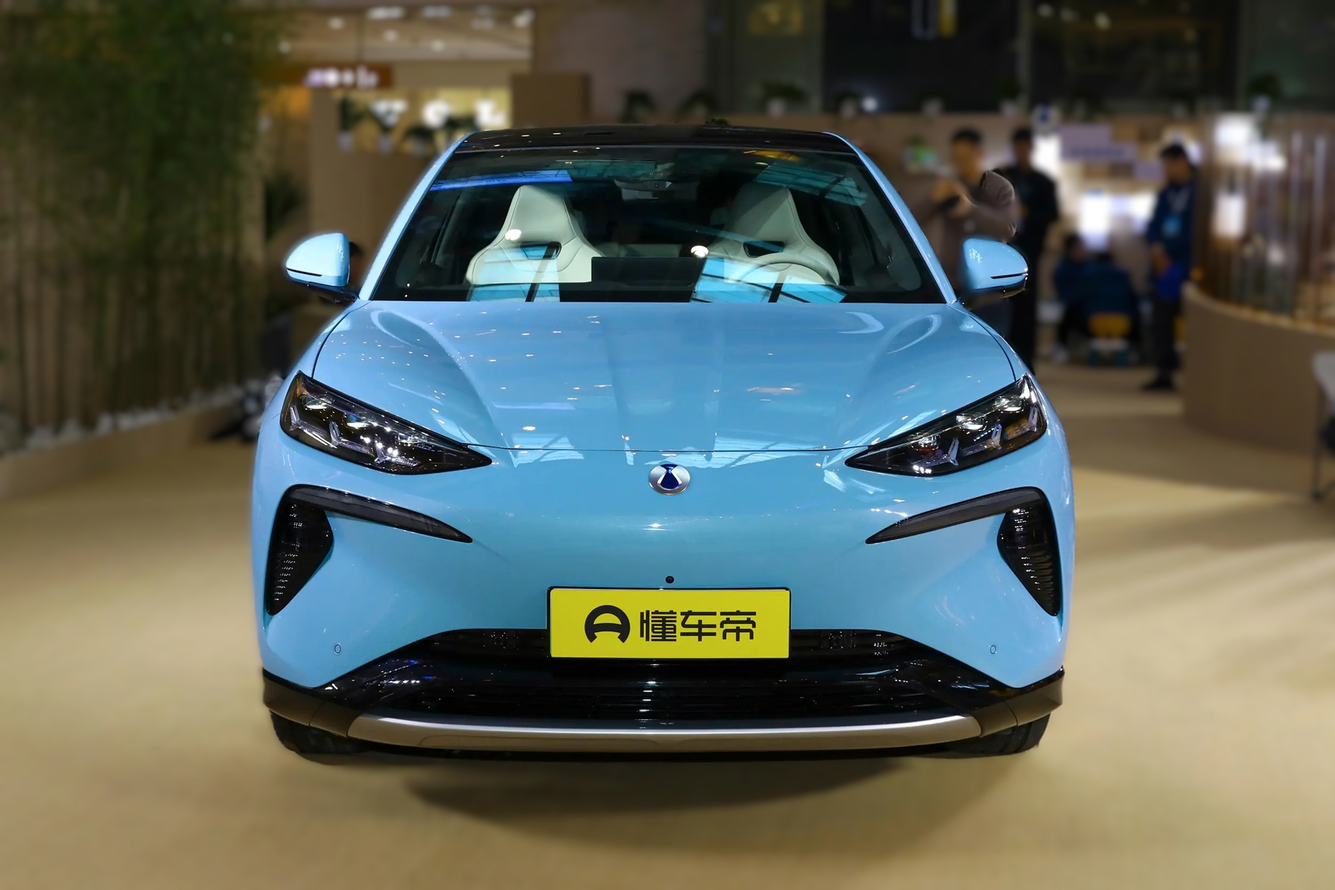DENZA: (649, 463, 690, 494)
